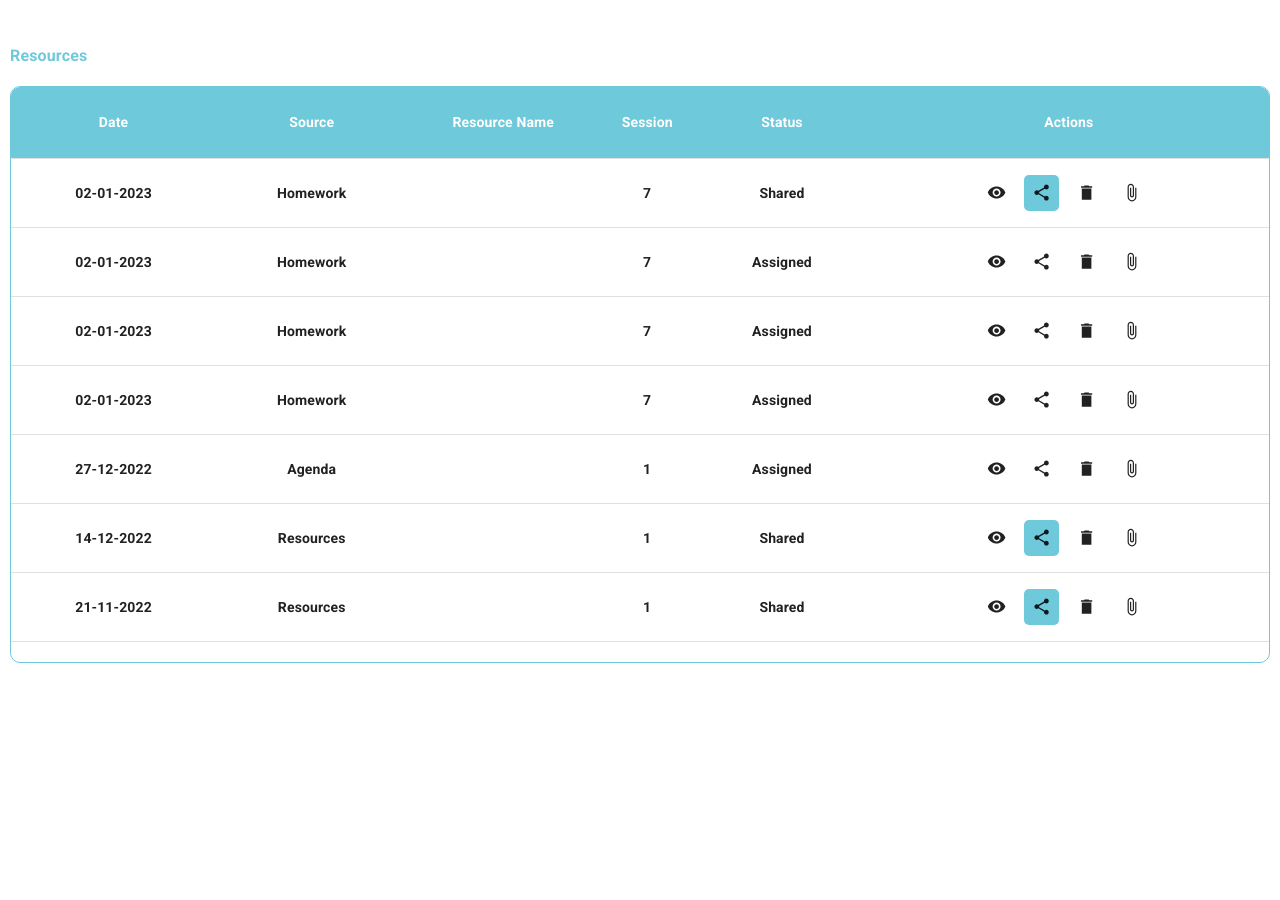
Scenario: Therapist patient resource list page › should delete therapist patient
Click the button with test id "iconButton_delete_ce465fdd296b46afac0192630c0ee34a" at point(1086, 262), box [1069,244,1104,280]
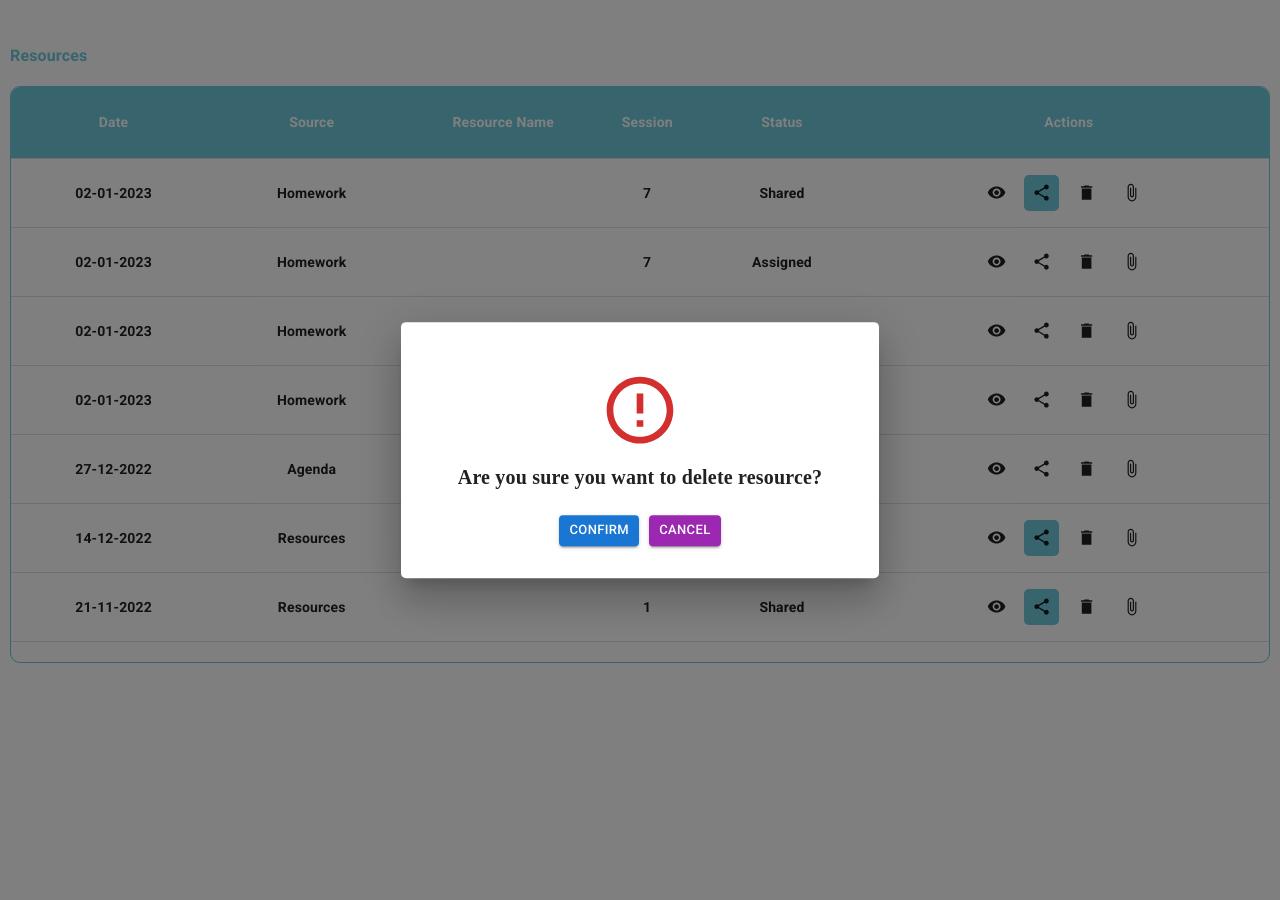
Click the button with test id "confirmButton" at point(599, 530), box [560,515,639,546]
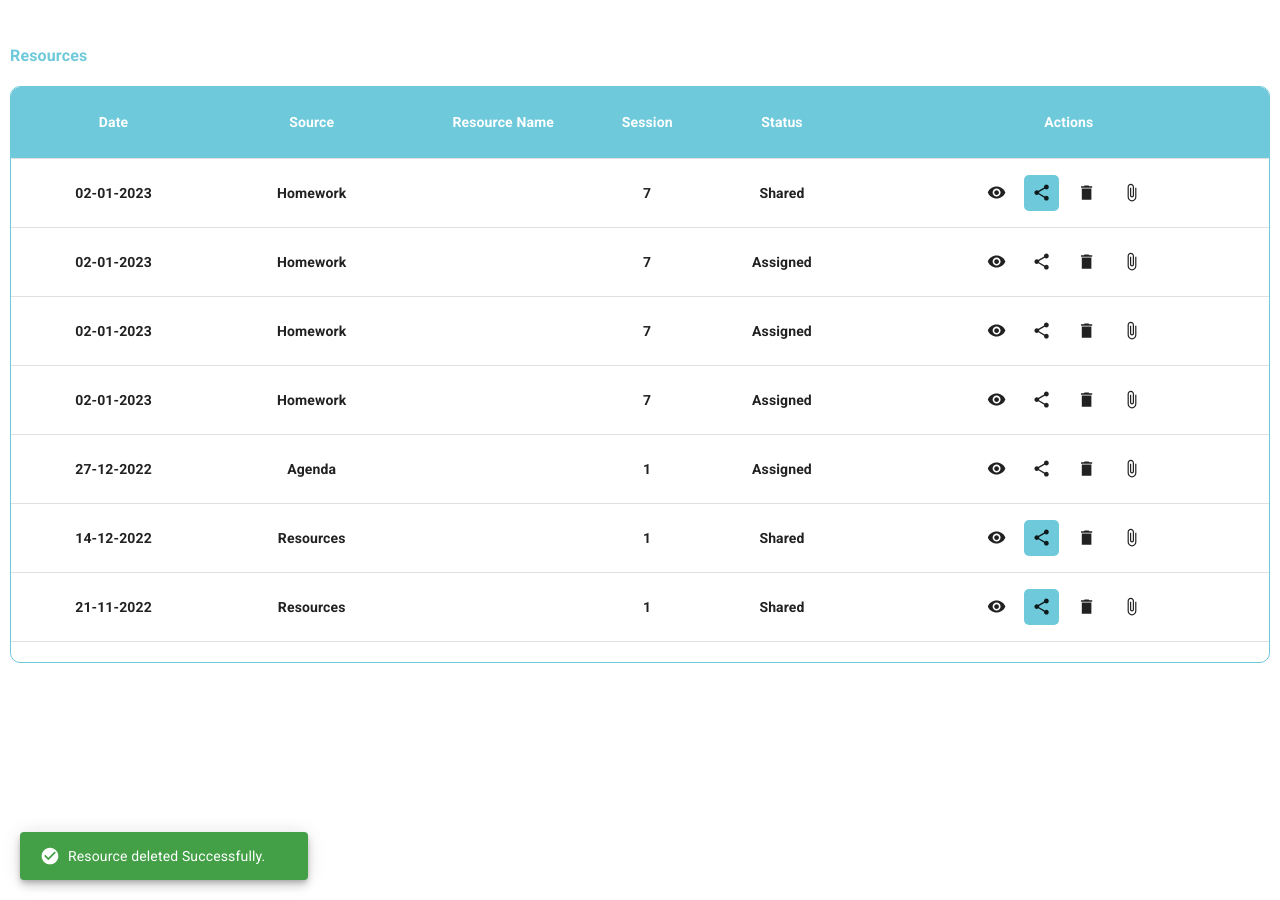
Expected: the text "Resource deleted Successfully." is shown, [40,846,265,866]
